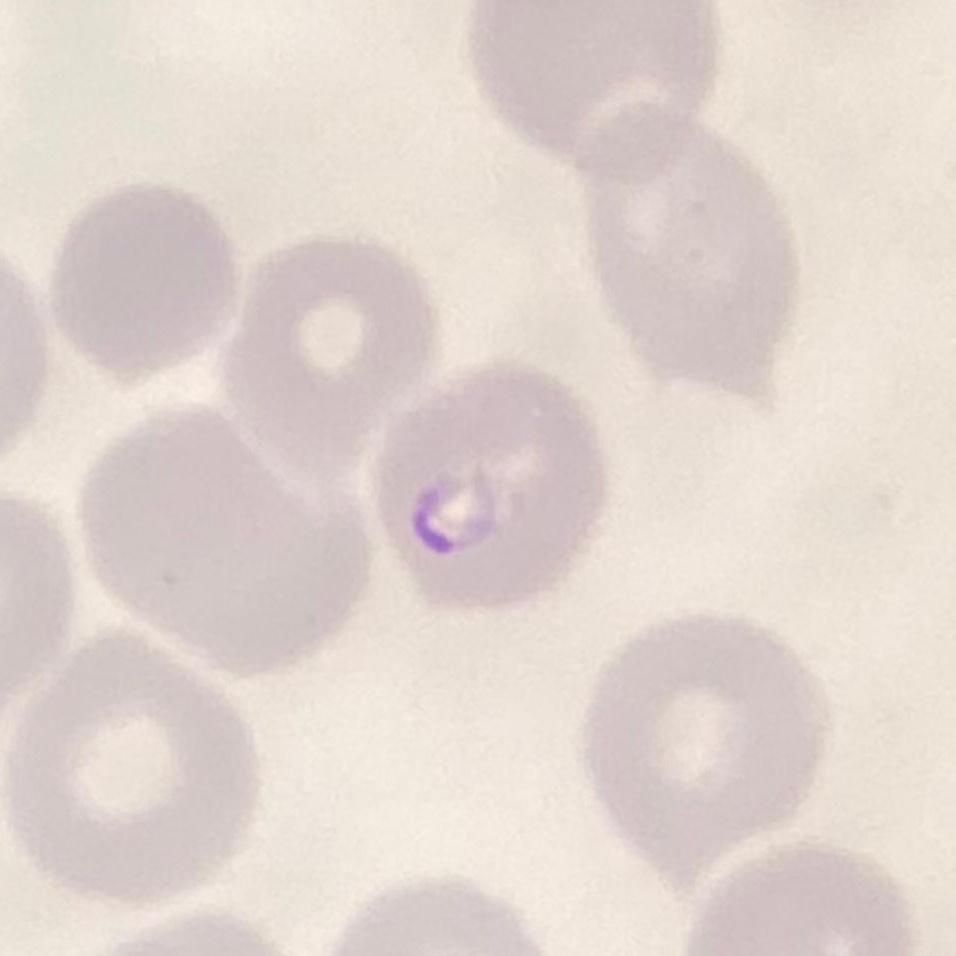Infected: (378, 353, 611, 625)
Uninfected: (78, 401, 362, 670), (580, 96, 806, 420), (0, 629, 254, 908), (588, 611, 822, 892), (215, 238, 439, 481), (463, 0, 726, 183), (52, 183, 239, 383)
